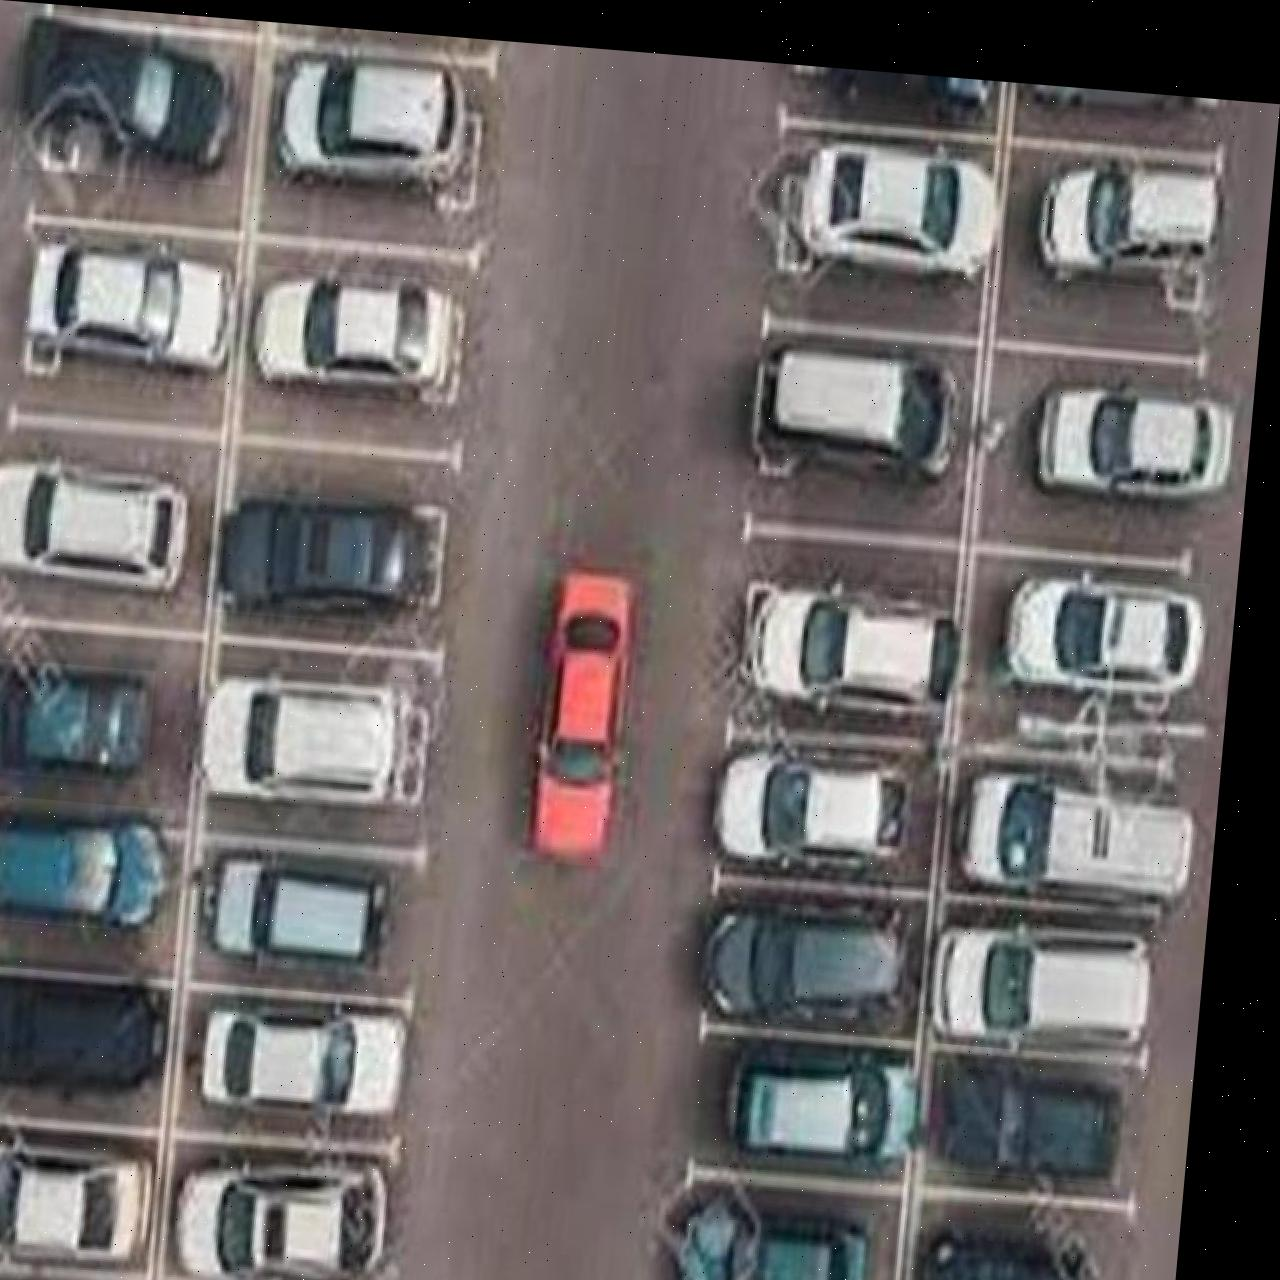car: (14, 12, 244, 182), (537, 556, 654, 856), (944, 899, 1176, 1049), (26, 230, 246, 387), (968, 748, 1214, 887), (755, 318, 972, 476), (749, 561, 976, 709), (212, 663, 447, 805), (271, 40, 478, 195), (794, 122, 1009, 268), (195, 1142, 417, 1280), (225, 485, 448, 621), (723, 722, 930, 866), (1009, 550, 1220, 687), (254, 260, 469, 395), (0, 451, 204, 591), (715, 884, 927, 1017), (218, 985, 430, 1114), (742, 1019, 945, 1153), (1036, 131, 1227, 273), (1037, 356, 1244, 486), (0, 792, 191, 930), (0, 1123, 178, 1268), (948, 1036, 1149, 1164), (217, 838, 413, 968), (0, 967, 191, 1095), (0, 655, 169, 782), (699, 1180, 897, 1280), (1024, 667, 1223, 765), (937, 1199, 1126, 1280), (779, 50, 994, 100), (1016, 66, 1212, 100), (40, 2, 260, 25), (924, 60, 994, 94)
